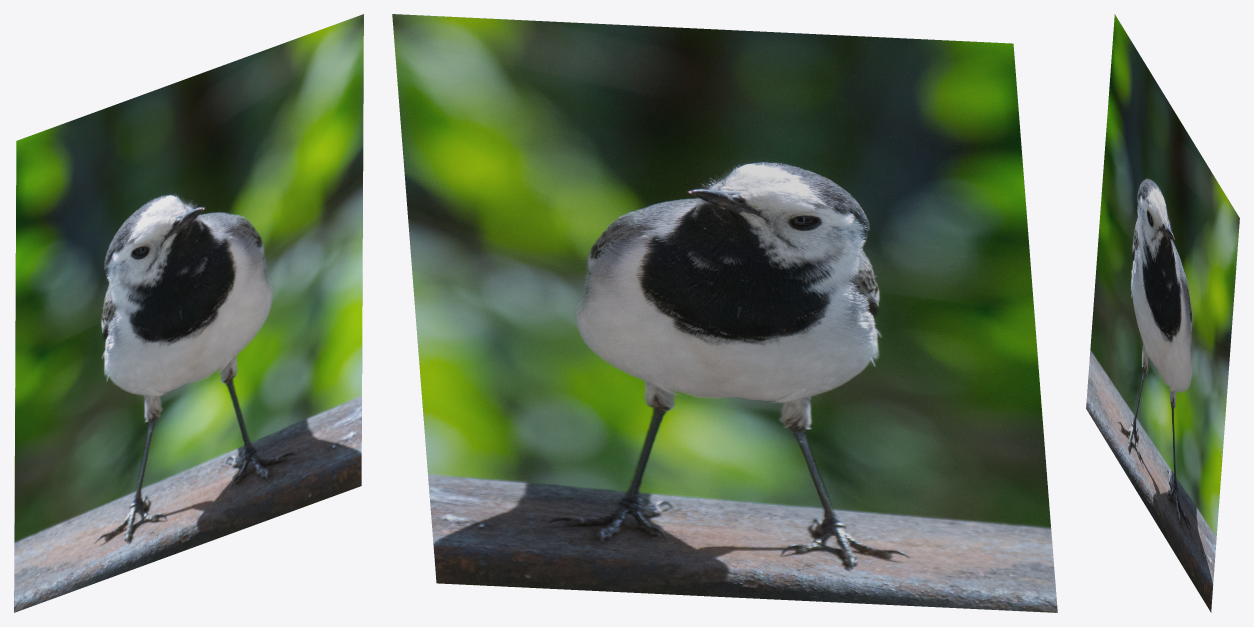
The model's file is Fish_01.glb.
3 renders of one model, left to right at view 1: azimuth 30°, elevation 25°; view 2: azimuth 150°, elevation 25°; view 3: azimuth 270°, elevation 25°, orthographic. The views are drawn at different scales.
Visible parts, largest first — view 1: Plane_(Copy); view 2: Plane_(Copy); view 3: Plane_(Copy).
Part boxes in pixels (x1,y1,x2,y2): Plane_(Copy): (14, 14, 363, 612); Plane_(Copy): (392, 14, 1057, 612); Plane_(Copy): (1086, 14, 1239, 612).
Bounding box in the file's own units: 40.02 × 42.24 × 13.81.
Materials: 1 (1 with a texture image).
